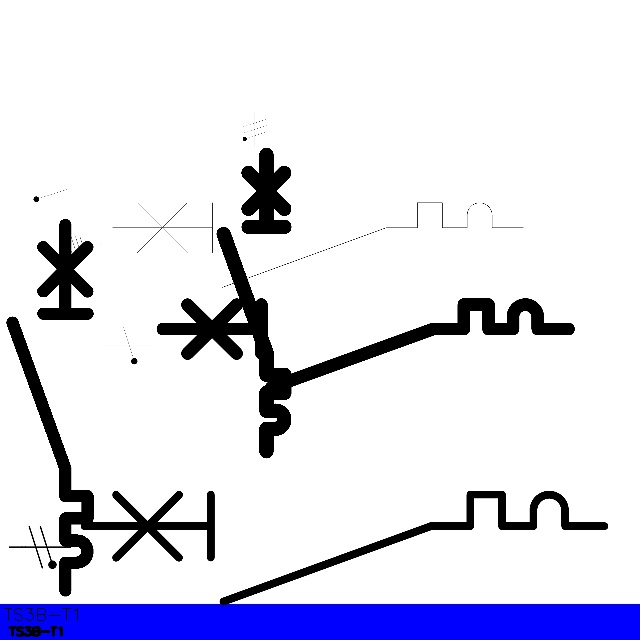interruptor_termomagnetico: (70, 481, 617, 615), (101, 192, 533, 298), (152, 294, 579, 398), (3, 215, 97, 599), (216, 147, 292, 459)
